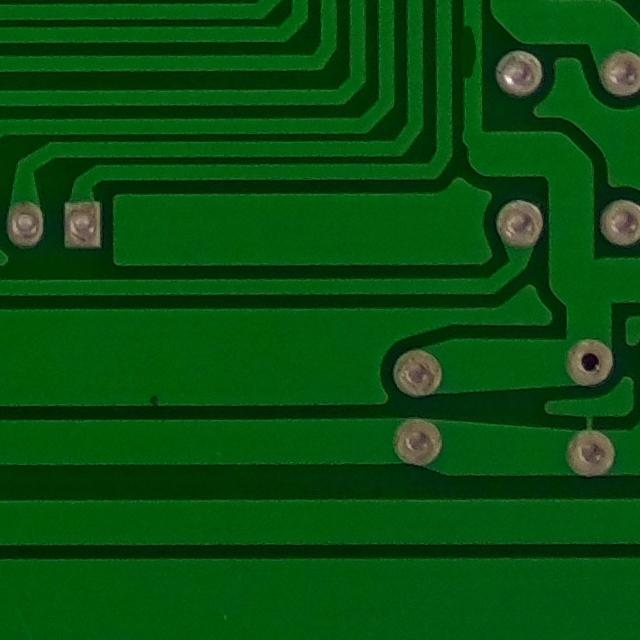mouse_bite: (453, 18, 491, 94)
